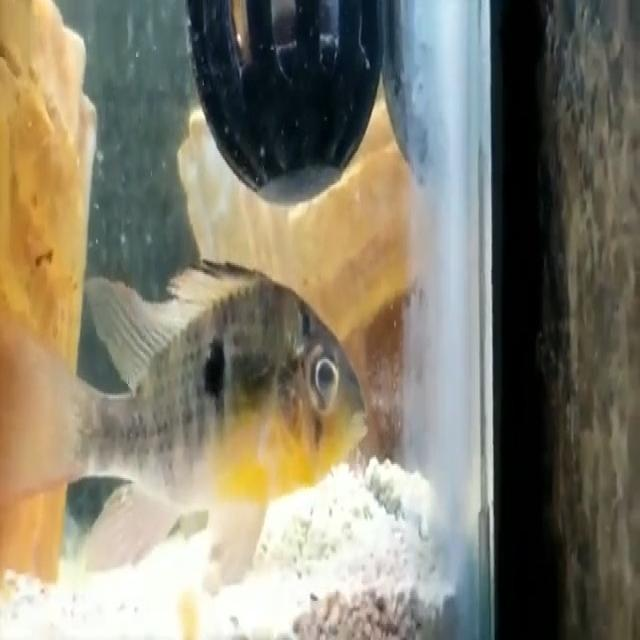fish: (0, 253, 373, 598)
